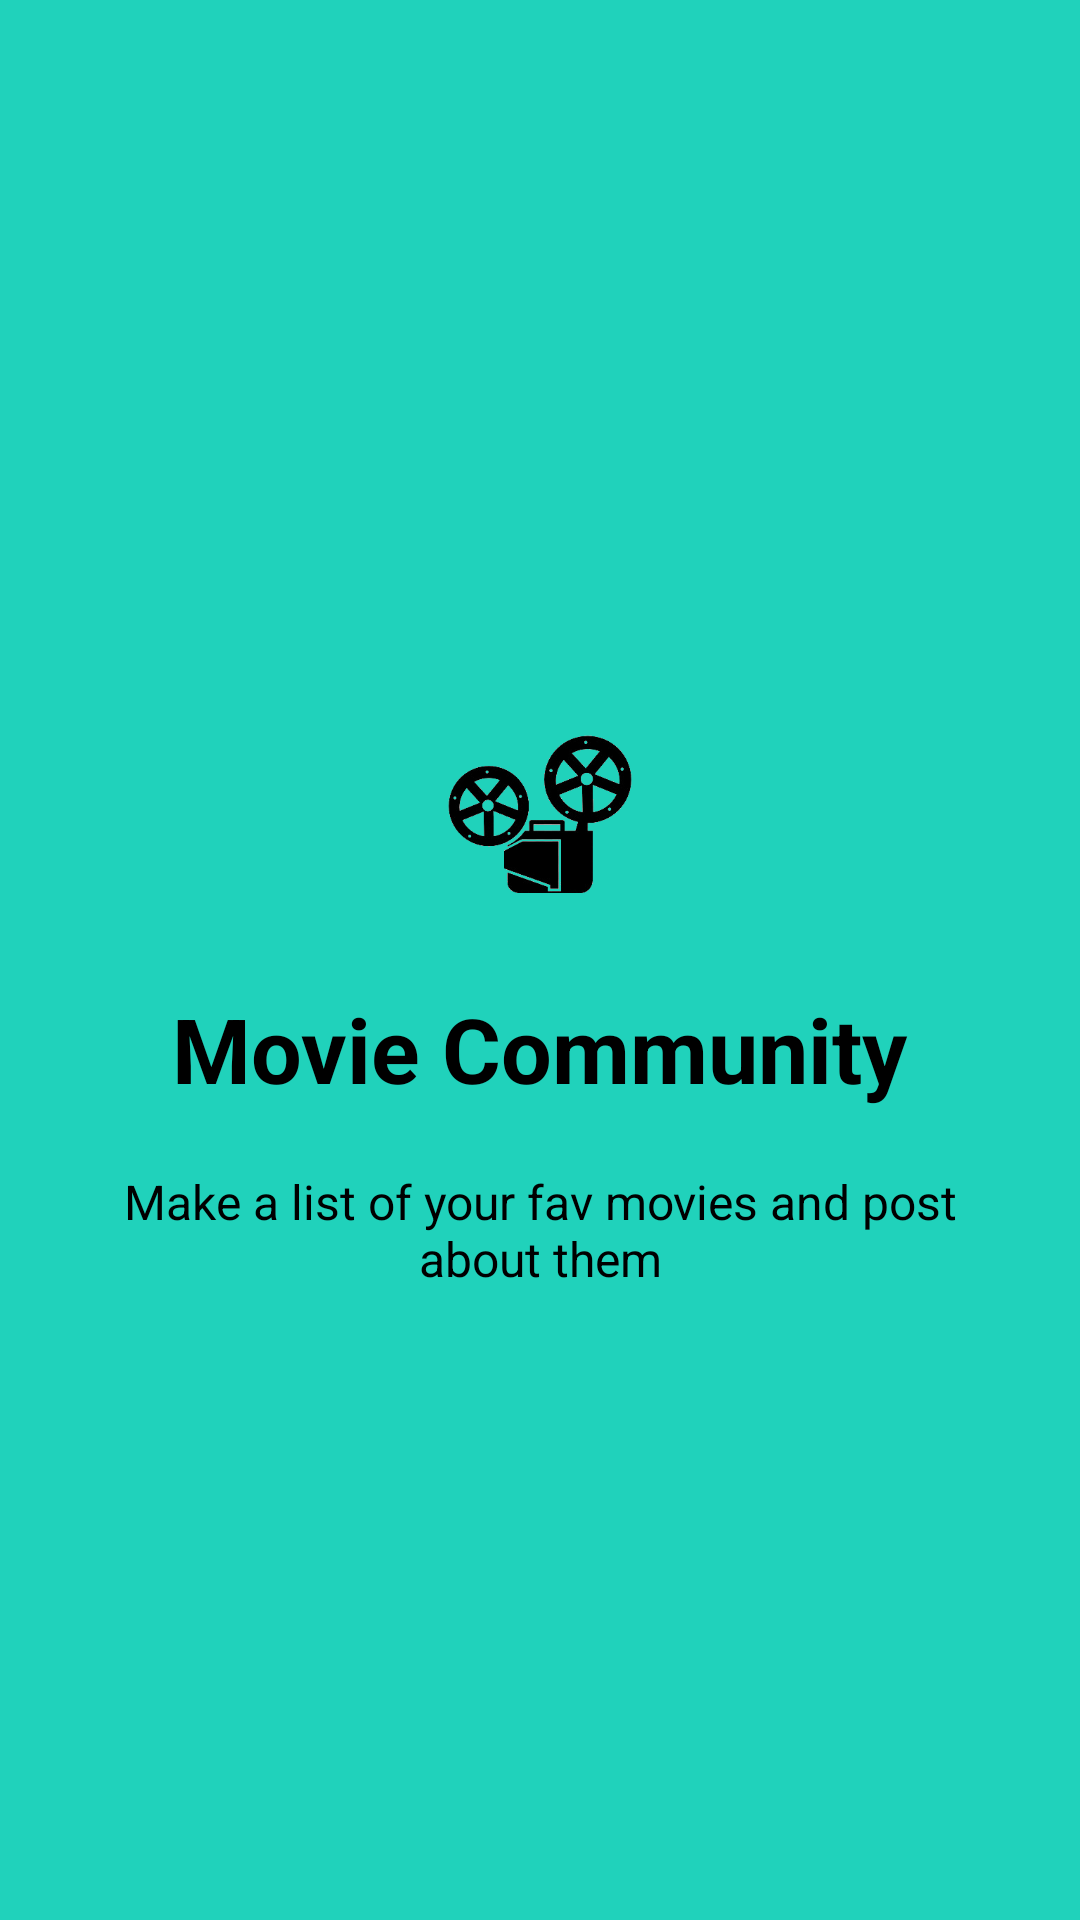

Screen size 1080x1920. Icon name, then its box in pixels as (x1, y1, x2, y2):
movielast: (448, 735, 632, 893)
